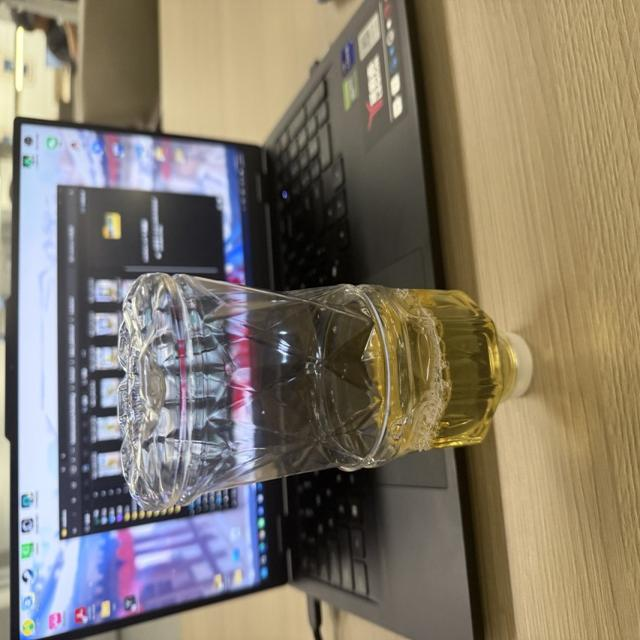low: (116, 274, 532, 510)
